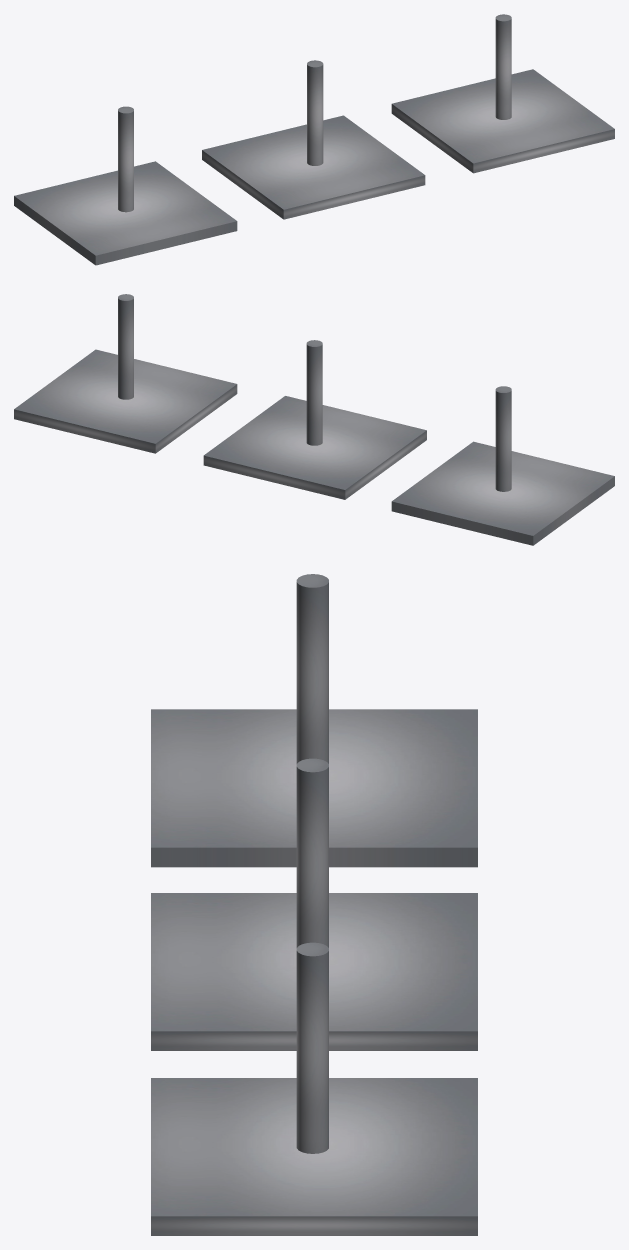
Rendered from BasesText.obj.
3 renders of one model, top to bottom at view 1: azimuth 30°, elevation 25°; view 2: azimuth 150°, elevation 25°; view 3: azimuth 270°, elevation 25°, orthographic. The views are drawn at different scales.
Visible parts, largest first — view 1: Box002, Box003, Box001, Cylinder001, Cylinder002, Cylinder003; view 2: Box001, Box003, Box002, Cylinder001, Cylinder003, Cylinder002; view 3: Box002, Box003, Box001, Cylinder002, Cylinder003, Cylinder001.
Boxes of the visible parts, <box> form: Box002: <box>391,69,614,173</box>; Box003: <box>14,161,237,265</box>; Box001: <box>202,115,425,219</box>; Cylinder001: <box>307,60,323,165</box>; Cylinder002: <box>495,14,511,119</box>; Cylinder003: <box>118,106,133,212</box>; Box001: <box>203,396,426,499</box>; Box003: <box>391,441,614,545</box>; Box002: <box>14,349,237,453</box>; Cylinder001: <box>306,340,322,445</box>; Cylinder003: <box>495,386,511,491</box>; Cylinder002: <box>118,294,133,399</box>; Box002: <box>151,1078,477,1235</box>; Box003: <box>151,709,477,867</box>; Box001: <box>151,893,477,1050</box>; Cylinder002: <box>296,942,328,1153</box>; Cylinder003: <box>296,574,328,763</box>; Cylinder001: <box>296,758,328,947</box>.
Size of the model in its own units: 110 by 22 by 30.
1 material, 1 textured.
